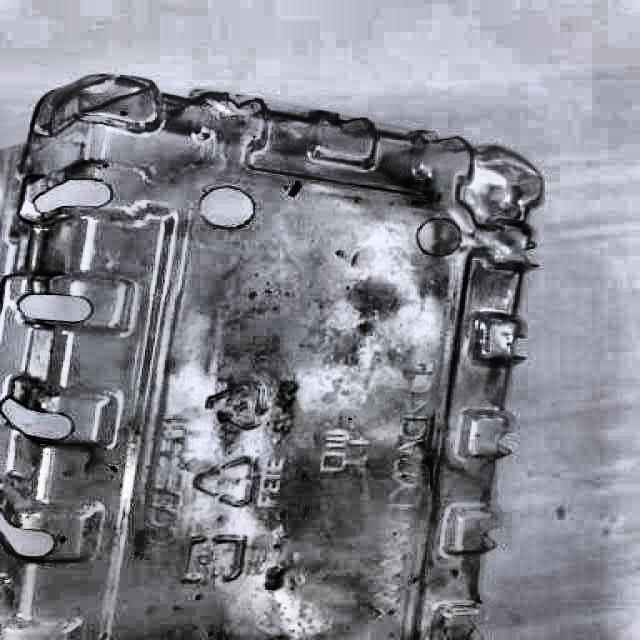plastic: (0, 74, 544, 639)
